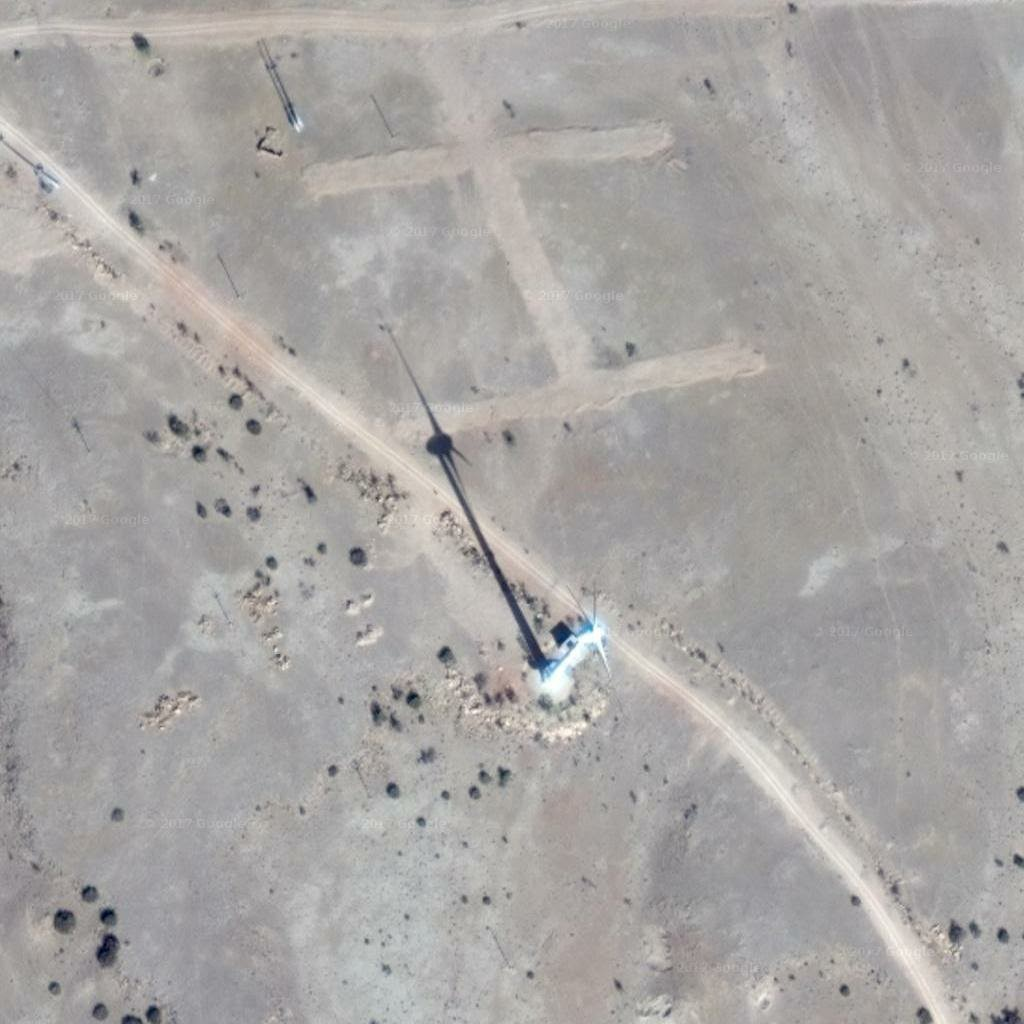Windmill: (370, 340, 575, 683)
